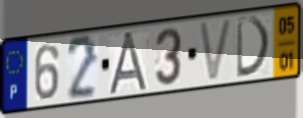2: (64, 33, 101, 105)
3: (153, 26, 184, 88)
6: (32, 42, 61, 102)
A: (106, 29, 152, 97)
D: (235, 14, 274, 81)
V: (196, 16, 236, 85)
